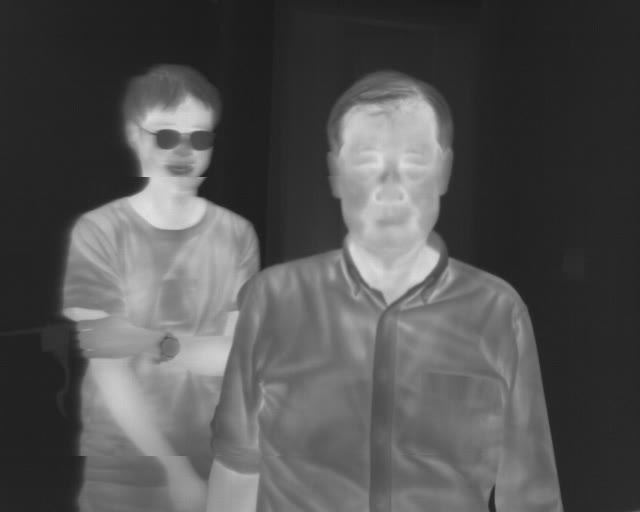face: (326, 68, 454, 262), (123, 63, 220, 199)
